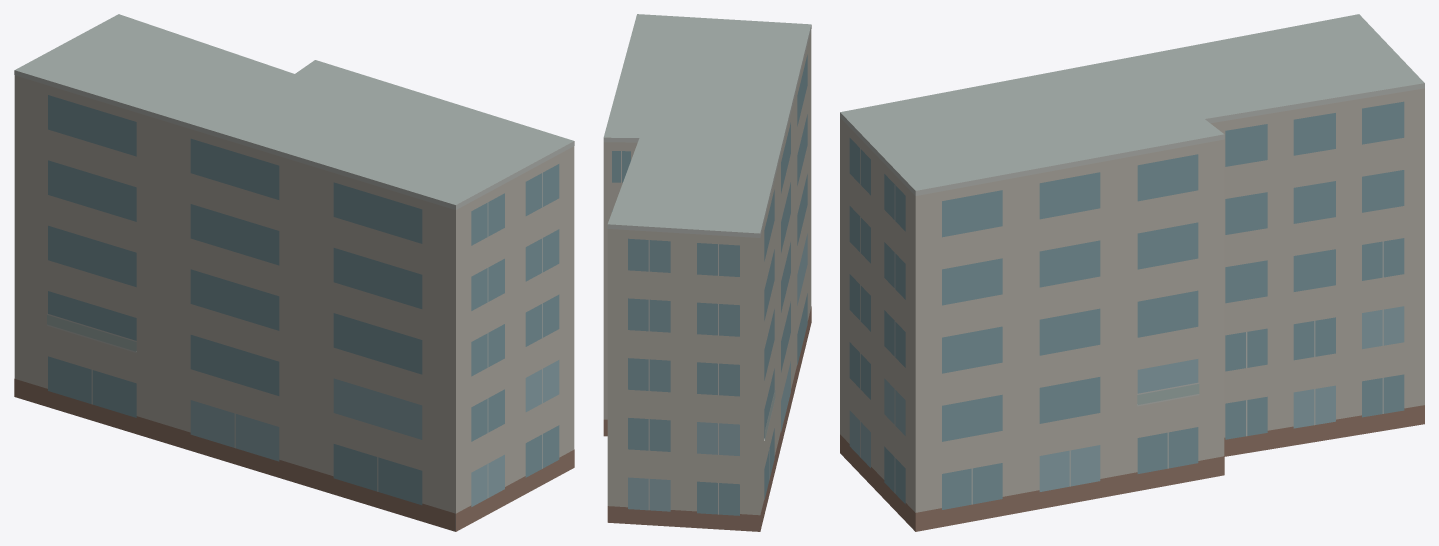
Rendered from survey-upis-32604674.glb.
3 views of the same model, side by side, from view 1: azimuth 30°, elevation 25°; view 2: azimuth 150°, elevation 25°; view 3: azimuth 270°, elevation 25° (orthographic). The views are drawn at different scales.
Parts seen in each view (by area): view 1: survey-upis-32604674.tmp; view 2: survey-upis-32604674.tmp; view 3: survey-upis-32604674.tmp.
Boxes of the visible parts, box(x1,y1,x2,y2) form: survey-upis-32604674.tmp: box(14, 14, 574, 531); survey-upis-32604674.tmp: box(603, 14, 811, 531); survey-upis-32604674.tmp: box(840, 14, 1424, 531).
Bounding box in the file's own units: 17.81 × 16 × 24.88.
